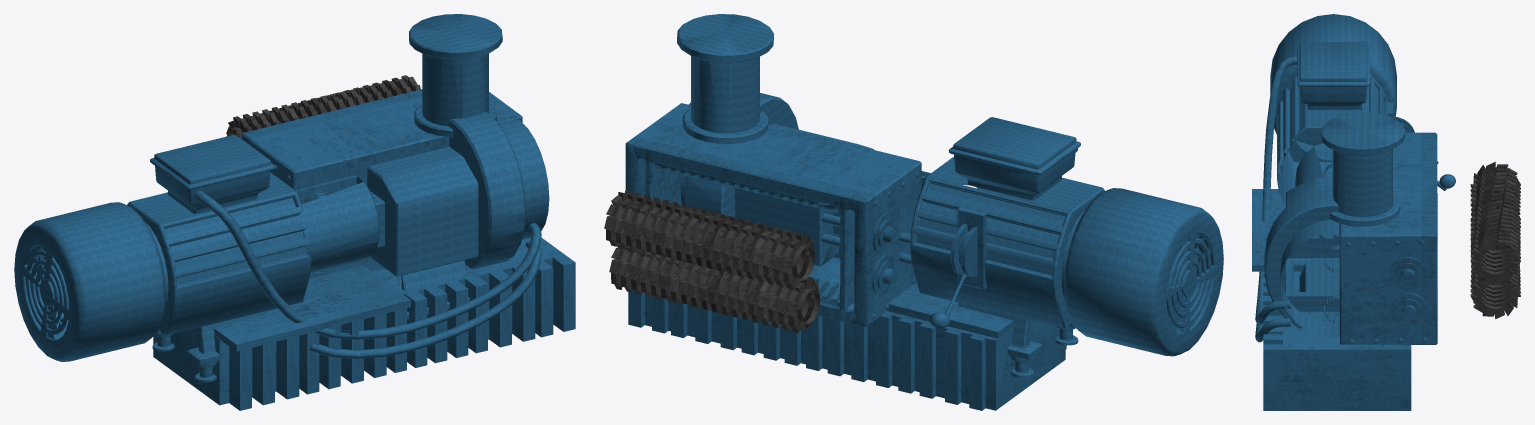
Rendered from poppy_playtime_chapter_2_grinder.glb.
3 views of the same model, side by side, from view 1: azimuth 30°, elevation 25°; view 2: azimuth 150°, elevation 25°; view 3: azimuth 270°, elevation 25° (orthographic). The views are drawn at different scales.
Parts seen in each view (by area): view 1: Object_4, Object_5, Object_3, Object_2; view 2: Object_4, Object_5, Object_2, Object_3; view 3: Object_4, Object_5, Object_3, Object_2.
Boxes of the visible parts, box(x1,y1,x2,y2) form: Object_4: box(14, 89, 549, 399); Object_5: box(153, 237, 575, 410); Object_3: box(249, 14, 541, 405); Object_2: box(226, 75, 420, 138); Object_4: box(625, 93, 1223, 398); Object_5: box(628, 282, 1066, 410); Object_2: box(604, 190, 820, 333); Object_3: box(654, 14, 986, 404); Object_4: box(1255, 14, 1437, 344); Object_5: box(1252, 189, 1411, 410); Object_3: box(1255, 102, 1455, 344); Object_2: box(1470, 161, 1520, 319).
Size of the model in its own units: 12.87 by 6.82 by 6.61.
2 materials, 2 textured.
